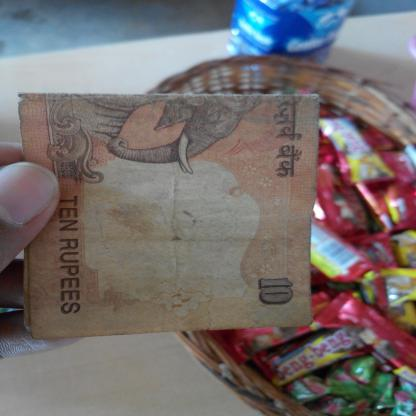Old10Back: (18, 93, 321, 341)
